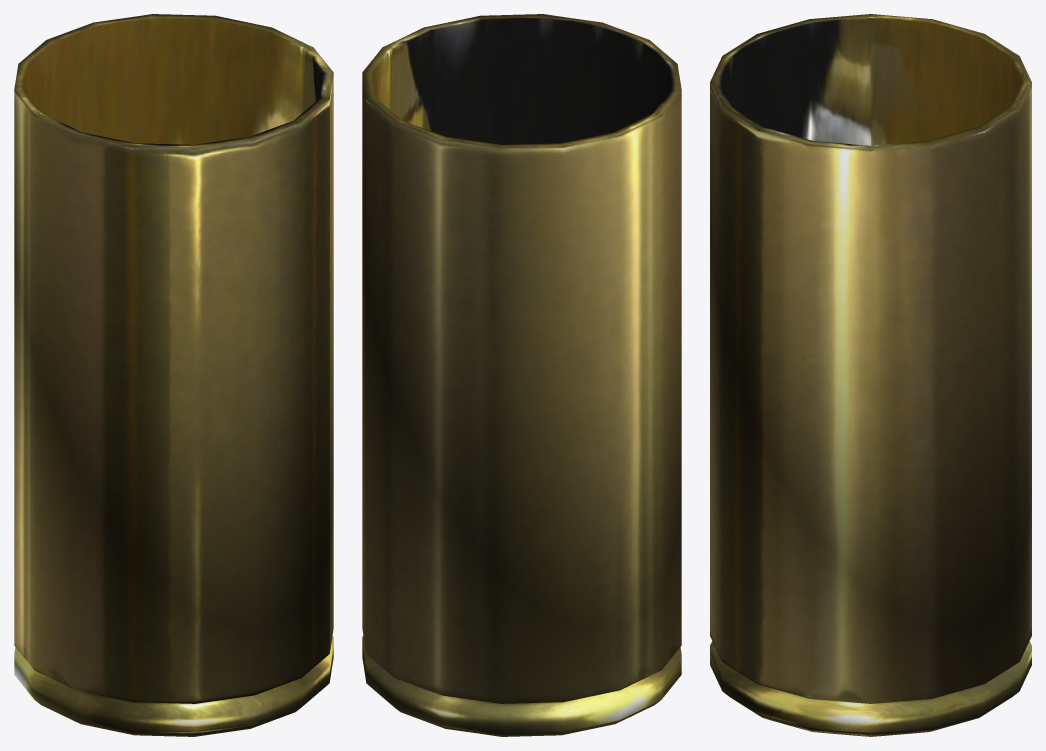
Rendered from goldenShell.glb.
3 views of the same model, side by side, from view 1: azimuth 30°, elevation 25°; view 2: azimuth 150°, elevation 25°; view 3: azimuth 270°, elevation 25° (orthographic).
Size of the model in its own units: 0.9744 by 2 by 0.9744.
Materials: 1 (1 with a texture image).
